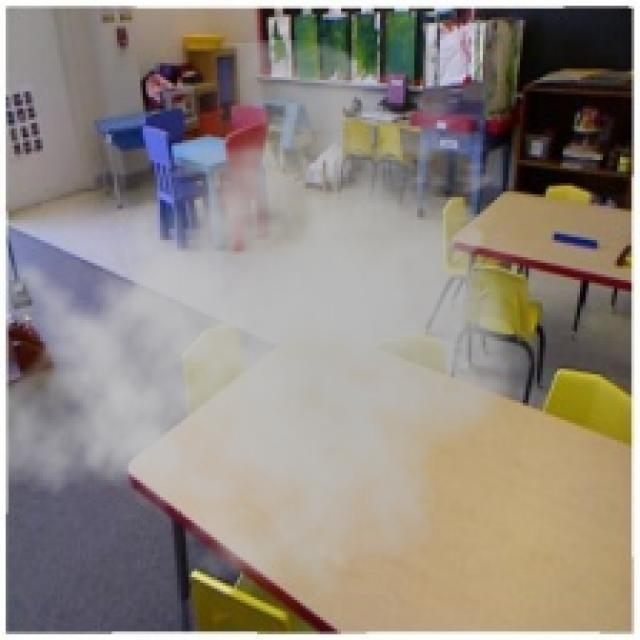Smoke: (6, 37, 566, 603)
